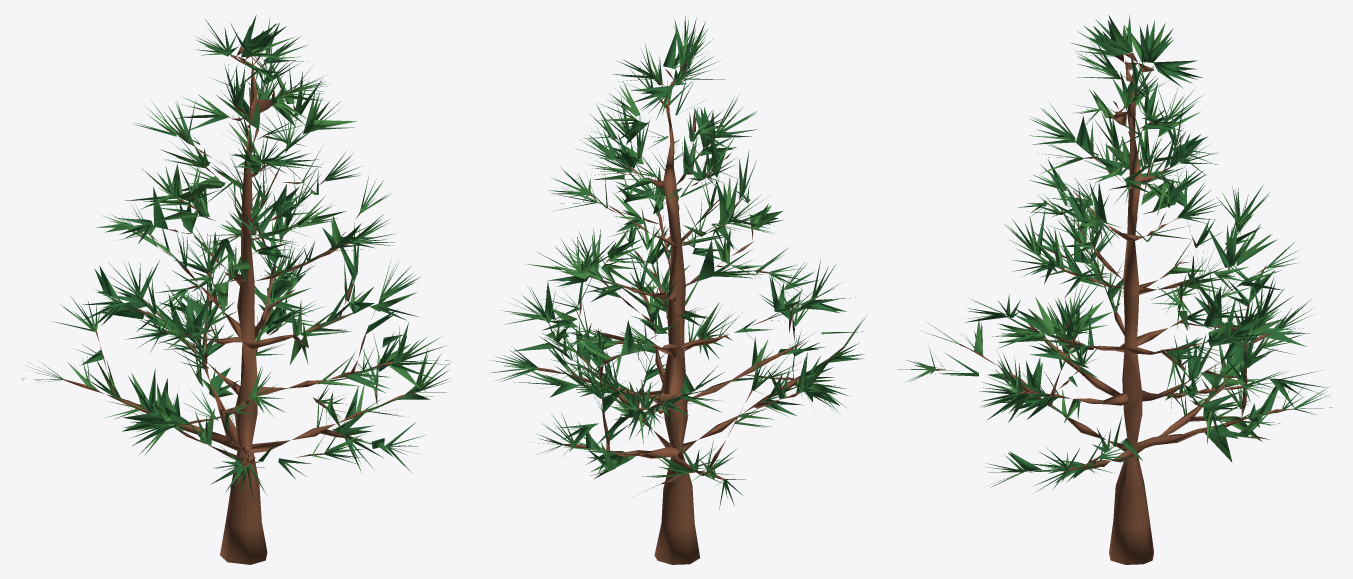
3 renders of one model, left to right at view 1: azimuth 30°, elevation 25°; view 2: azimuth 150°, elevation 25°; view 3: azimuth 270°, elevation 25°, orthographic. The views are drawn at different scales.
Visible parts, largest first — view 1: body; view 2: body; view 3: body.
Boxes of the visible parts, x1=… form: body: x1=22, y1=15, x2=451, y2=564; body: x1=489, y1=16, x2=865, y2=564; body: x1=897, y1=15, x2=1332, y2=564.
Size of the model in its own units: 2.06 by 3.33 by 2.46.
1 material, 1 textured.
